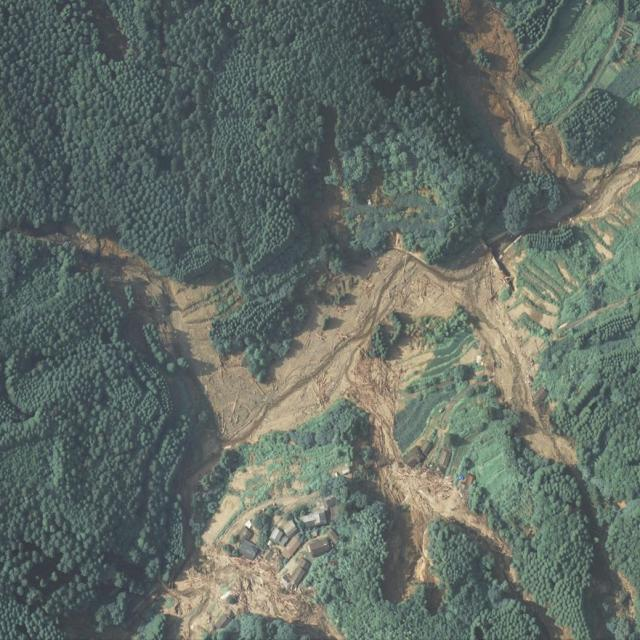landslide: (19, 224, 577, 599), (429, 1, 640, 258), (150, 470, 340, 640)
